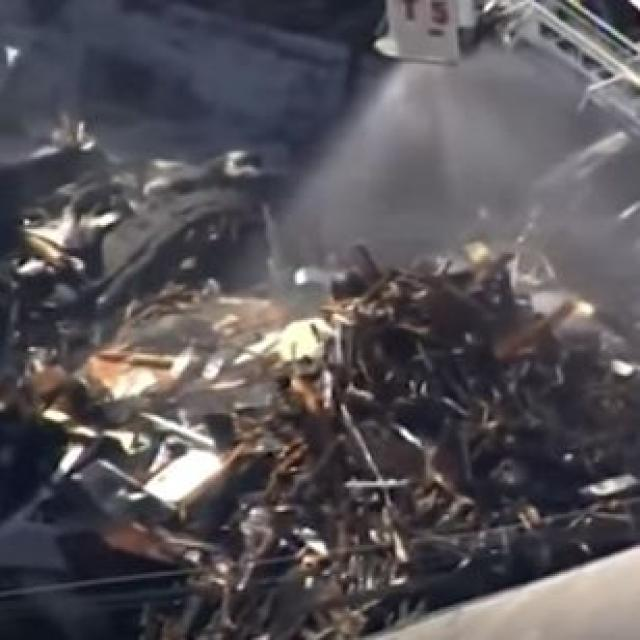collapsed_building: (8, 170, 638, 590)
